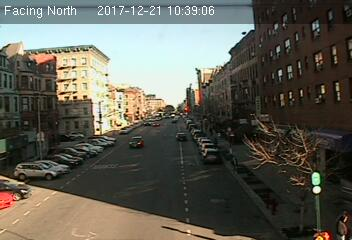car: (202, 147, 220, 164), (128, 135, 144, 148), (175, 132, 186, 141)
